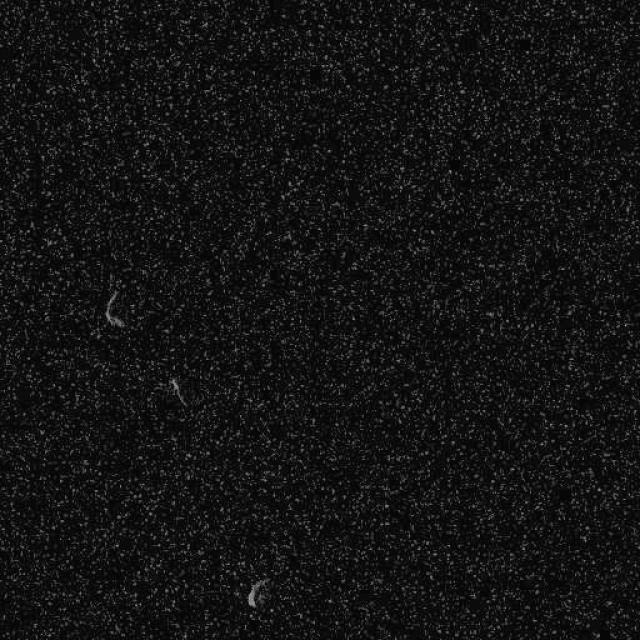D2: (102, 286, 128, 329), (245, 576, 271, 609), (166, 375, 188, 406)
